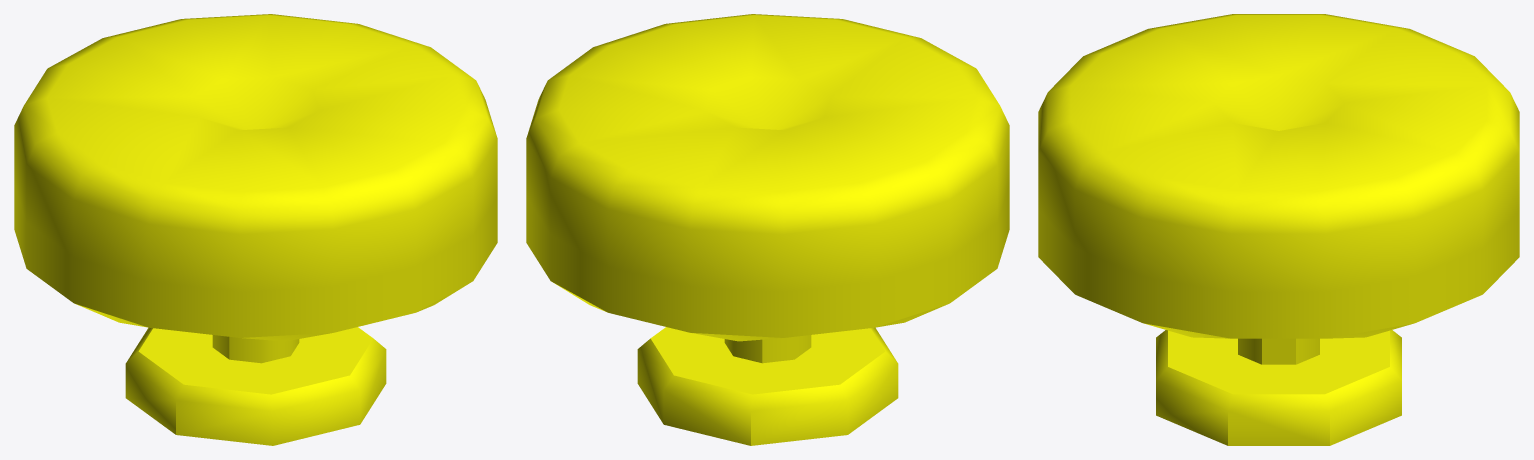
File: chair_stool.gltf
The picture shows the model from 3 angles, left to right: view 1: azimuth 30°, elevation 25°; view 2: azimuth 150°, elevation 25°; view 3: azimuth 270°, elevation 25°; orthographic projection.
Visible parts, largest first — view 1: chair_stool; view 2: chair_stool; view 3: chair_stool.
Boxes of the visible parts, <box> form: chair_stool: <box>14,14,497,445</box>; chair_stool: <box>526,14,1009,445</box>; chair_stool: <box>1038,14,1519,445</box>.
Size of the model in its own units: 0.75 by 0.5 by 0.75.
1 material, 1 textured.
